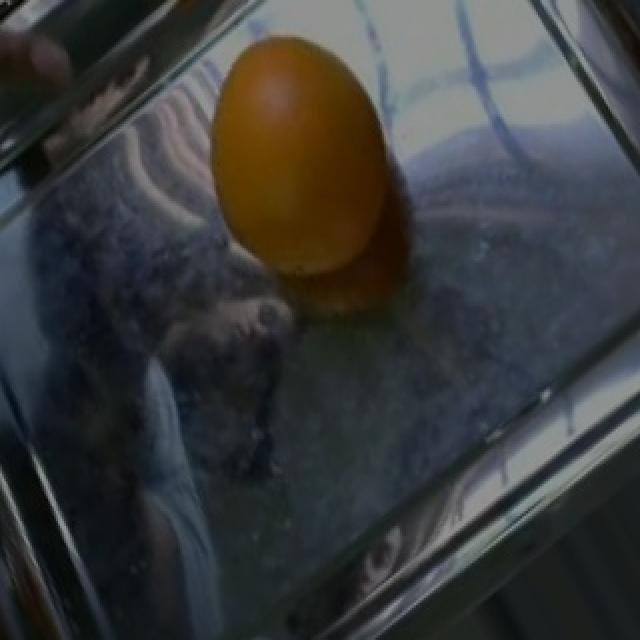Fruit: (174, 27, 416, 298)
